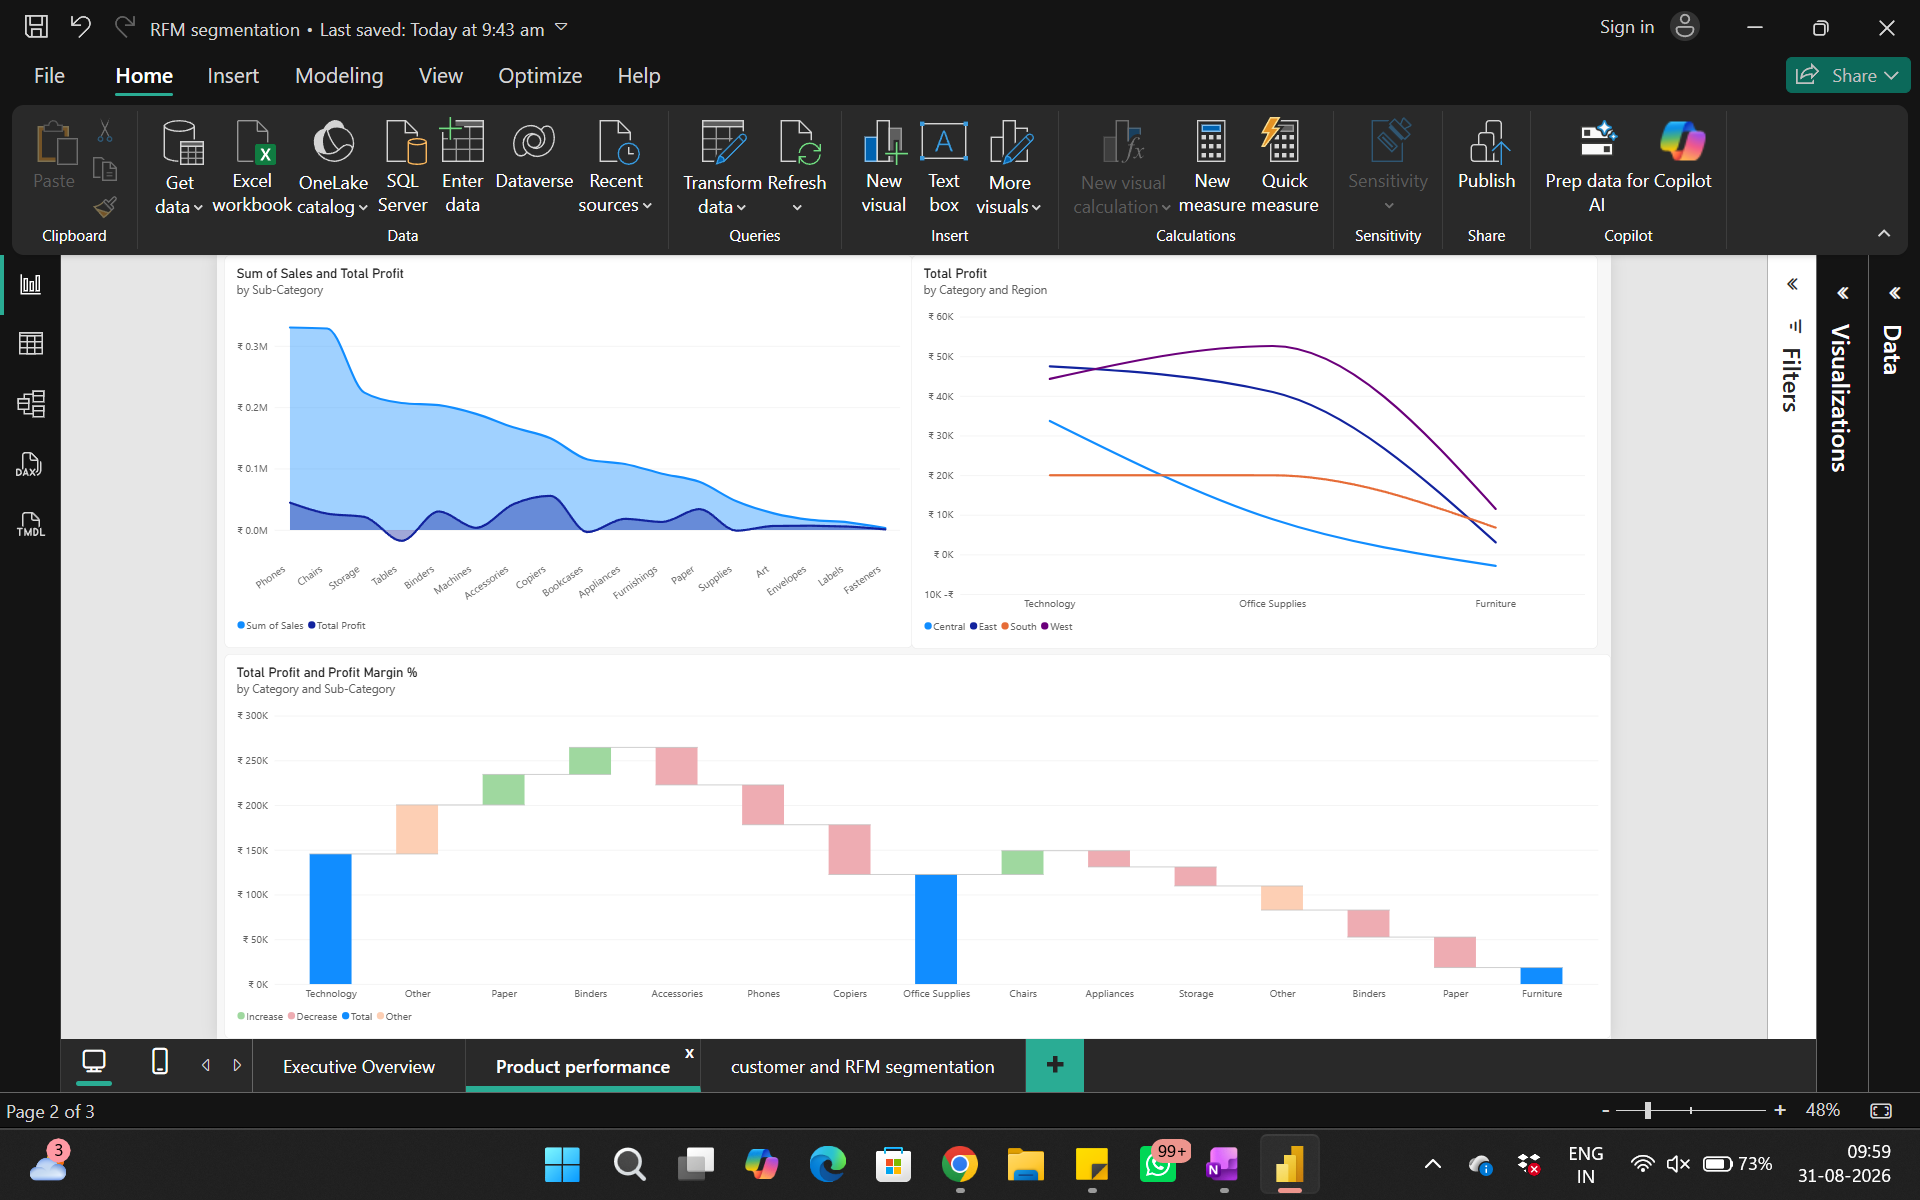

What the dashboard file says about the page in this screenshot:
{"tool":"powerbi","page":{"name":"Product performance ","canvas":[1920,1080],"ordinal":1},"visuals":[{"type":"areaChart","fields":{"Category":["Sample_-_Superstore[1].Sub-Category"],"Y":["Sum(Sample_-_Superstore[1].Sales)","Sample_-_Superstore[1].Total Profit"]},"box":[10.3,0,948.3,541.4],"z":0},{"type":"lineChart","fields":{"Category":["Sample_-_Superstore[1].Category"],"Series":["Sample_-_Superstore[1].Region"],"Y":["Sample_-_Superstore[1].Total Profit"]},"box":[957.5,0,945,542.5],"z":1},{"type":"waterfallChart","fields":{"Breakdown":["Sample_-_Superstore[1].Sub-Category"],"Category":["Sample_-_Superstore[1].Category"],"Y":["Sample_-_Superstore[1].Total Profit"]},"box":[10,550,1910,530],"z":2}]}

Visuals, with their boxes on the page's 1920x1080 design canvas (x1, y1, x2, y2). These are canvas units, not pixel positions in the 1920x1200 screenshot, which may show the page scaled, cropped or inside an application window:
areaChart - Sample_-_Superstore[1].Sub-Category x Sum(Sample_-_Superstore[1].Sales): (x1=10, y1=0, x2=959, y2=541)
lineChart - Sample_-_Superstore[1].Category x Sample_-_Superstore[1].Region: (x1=958, y1=0, x2=1902, y2=542)
waterfallChart - Sample_-_Superstore[1].Sub-Category x Sample_-_Superstore[1].Category: (x1=10, y1=550, x2=1920, y2=1080)
